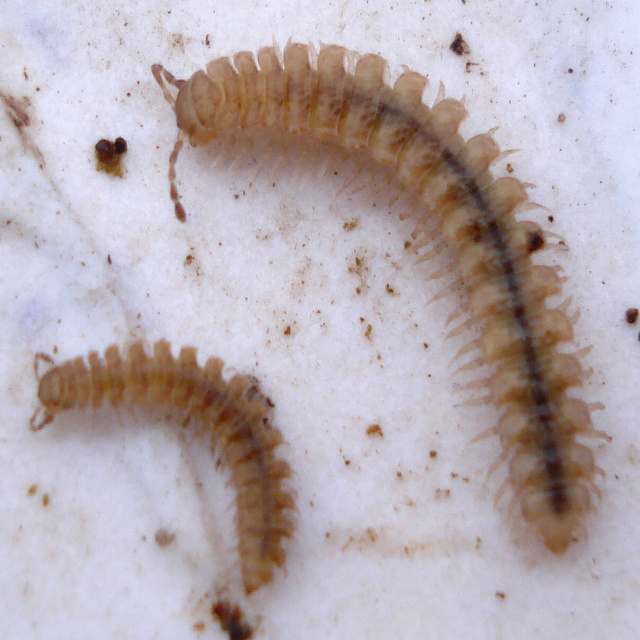Caterpillar: (148, 30, 609, 553), (28, 333, 301, 598)
